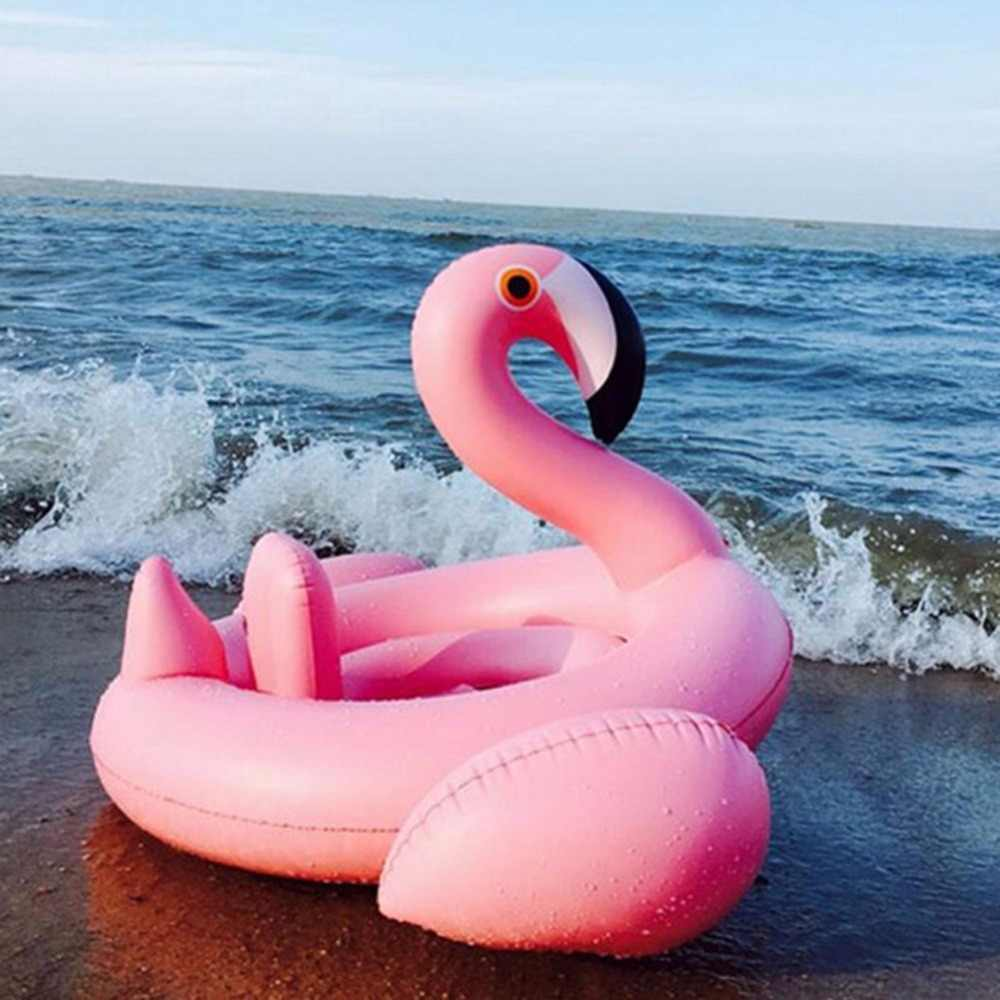Flamingo: (85, 239, 798, 963)
